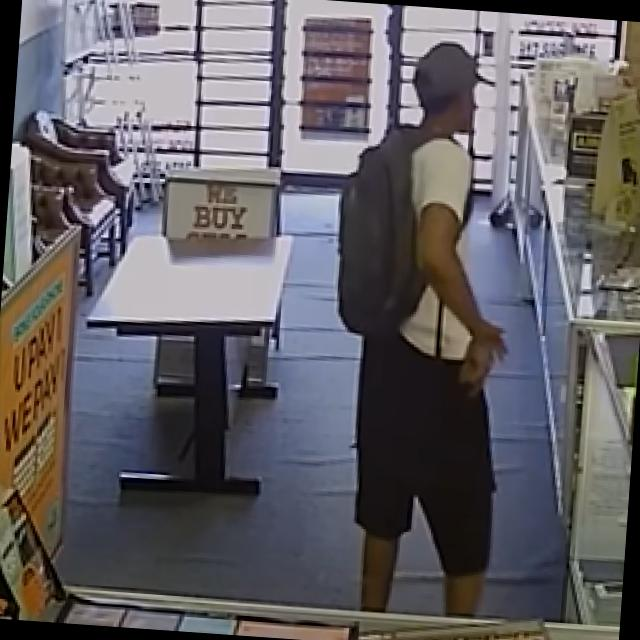person: (315, 40, 532, 622)
